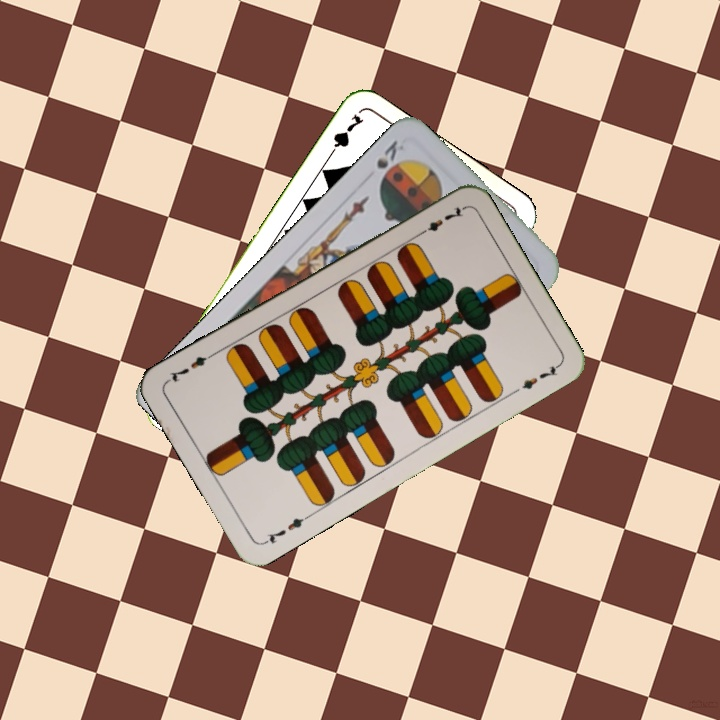E7: (259, 510, 313, 547), (413, 203, 467, 239)
G7: (323, 109, 367, 162)
SK: (372, 136, 407, 172)
